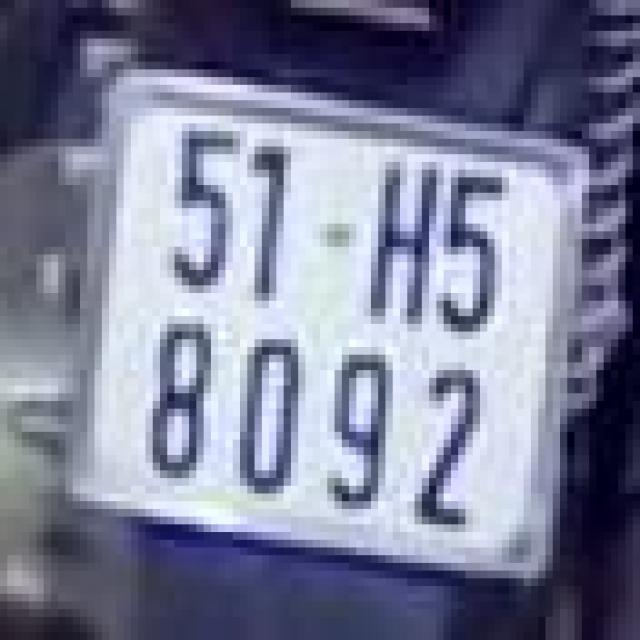0: (240, 336, 305, 498)
1: (247, 139, 291, 316)
2: (411, 362, 505, 563)
5: (164, 112, 236, 304), (447, 150, 513, 336)
8: (138, 312, 226, 498)
9: (324, 339, 396, 517)
H: (367, 135, 433, 343)
